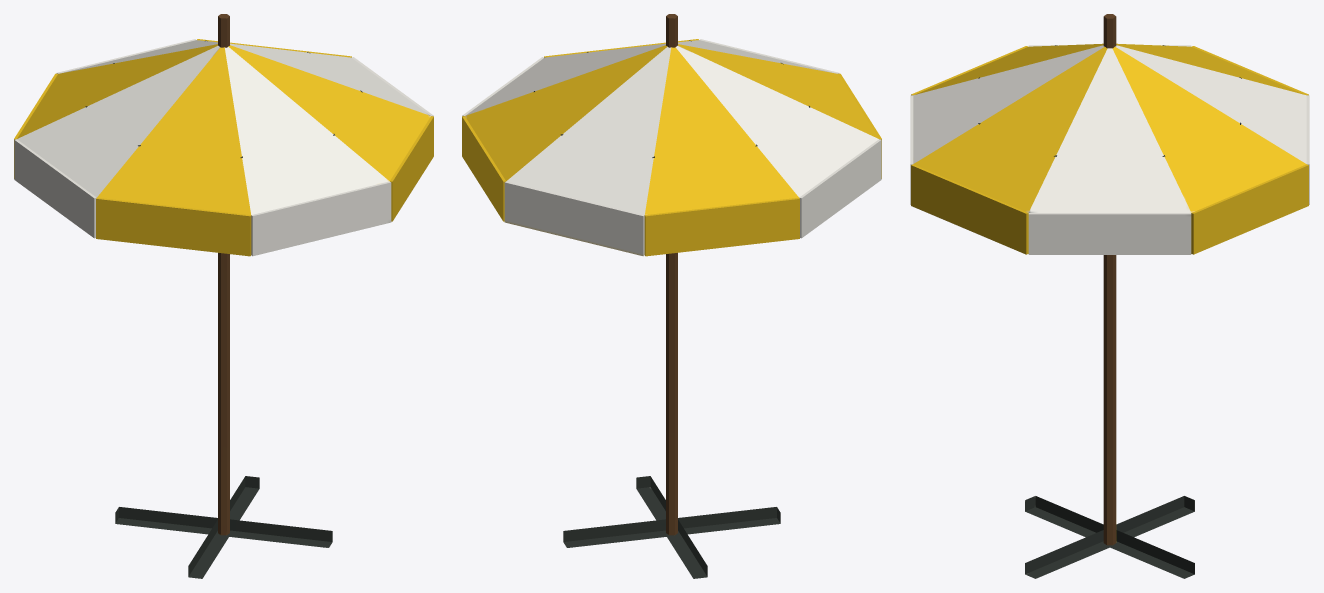
Rendered from slunecnik_a795cc10.glb.
3 renders of one model, left to right at view 1: azimuth 30°, elevation 25°; view 2: azimuth 150°, elevation 25°; view 3: azimuth 270°, elevation 25°, orthographic.
Visible parts, largest first — view 1: dum; view 2: dum; view 3: dum.
Part boxes in pixels (left/top/right/bottom): dum: left=14, top=14, right=433, bottom=578; dum: left=462, top=14, right=881, bottom=578; dum: left=910, top=14, right=1309, bottom=578.
Size of the model in its own units: 1.59 by 2.31 by 1.59.
Materials: 1 (1 with a texture image).
